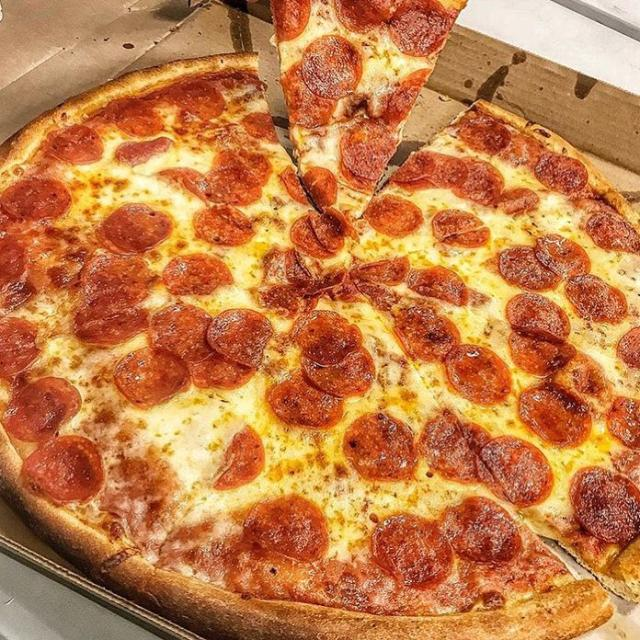pepperoni: (369, 512, 455, 588), (21, 430, 104, 507), (245, 493, 330, 566), (418, 409, 497, 486), (1, 372, 84, 444), (474, 436, 554, 508), (440, 496, 524, 564), (341, 412, 420, 484), (567, 465, 640, 541), (114, 345, 193, 412), (518, 381, 593, 451), (266, 367, 345, 429), (94, 202, 177, 256), (72, 292, 150, 348), (446, 343, 511, 408), (300, 342, 375, 398), (339, 119, 397, 191), (301, 34, 365, 99), (290, 309, 364, 365), (205, 306, 274, 366), (394, 306, 461, 364), (281, 60, 339, 126), (212, 421, 266, 491), (506, 329, 578, 381), (150, 304, 216, 360), (82, 251, 154, 300), (0, 176, 71, 225), (162, 251, 235, 298), (564, 274, 628, 326), (389, 0, 449, 55), (504, 293, 570, 340), (496, 245, 562, 291), (192, 204, 257, 247), (384, 68, 432, 126), (407, 263, 470, 307), (532, 233, 591, 279), (279, 166, 339, 210), (362, 194, 423, 237), (452, 155, 504, 205), (0, 313, 40, 377), (40, 124, 104, 164), (210, 147, 272, 188), (167, 80, 227, 122), (104, 96, 165, 136), (533, 154, 590, 196), (432, 208, 490, 249), (192, 353, 256, 390), (585, 210, 640, 253), (153, 166, 211, 205), (202, 166, 262, 203), (331, 0, 395, 34), (458, 118, 511, 156), (115, 136, 182, 166), (261, 284, 322, 316), (606, 396, 640, 450), (308, 205, 346, 253), (291, 215, 333, 258), (268, 246, 314, 285), (270, 0, 312, 42), (351, 257, 412, 285), (0, 234, 29, 292), (422, 152, 468, 188), (614, 326, 640, 389), (396, 151, 433, 192), (242, 110, 282, 146), (306, 270, 351, 296), (502, 184, 538, 215)
pizza: (0, 0, 640, 640)
